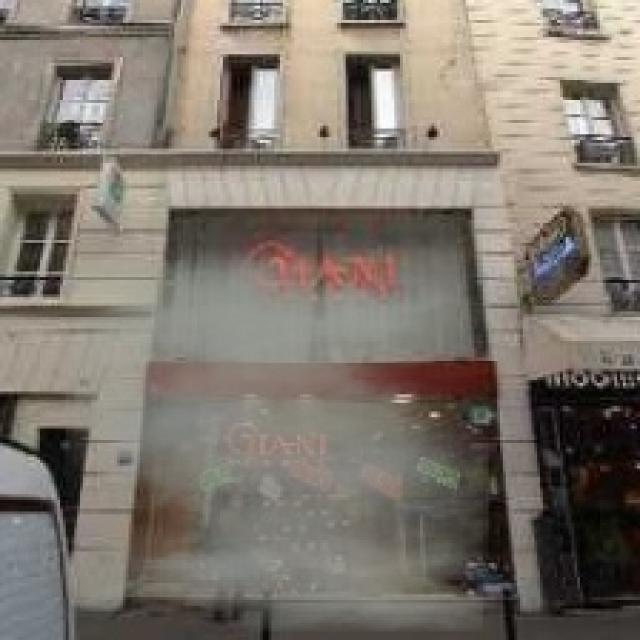Smoke: (66, 259, 488, 632)
